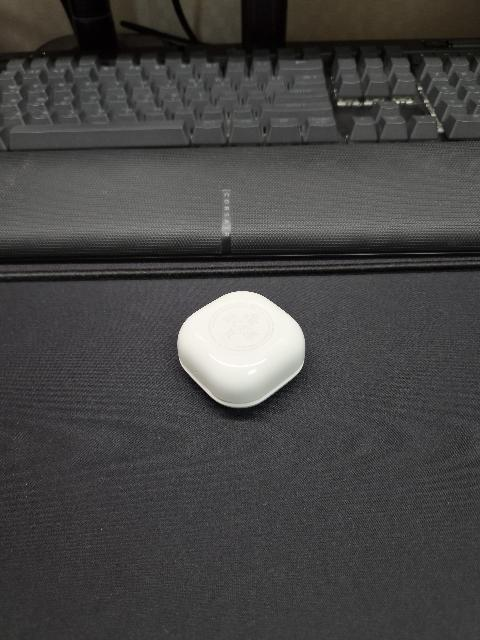earphone_case: (177, 291, 306, 409)
